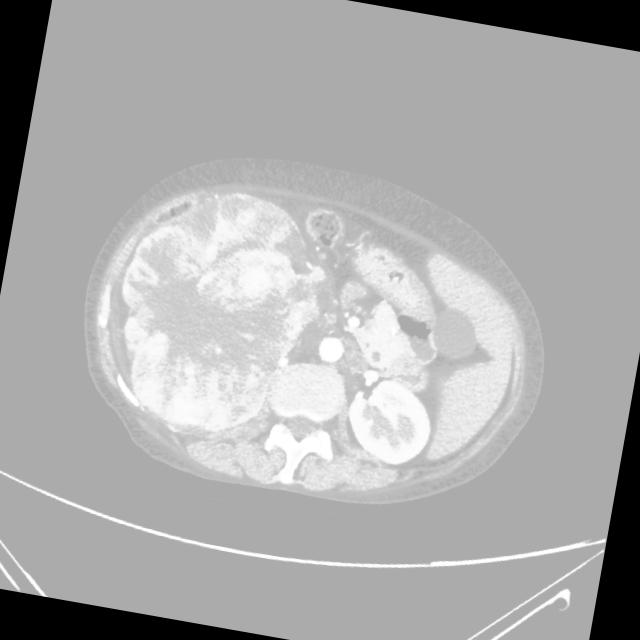TUMOR: (258, 214, 551, 486)
